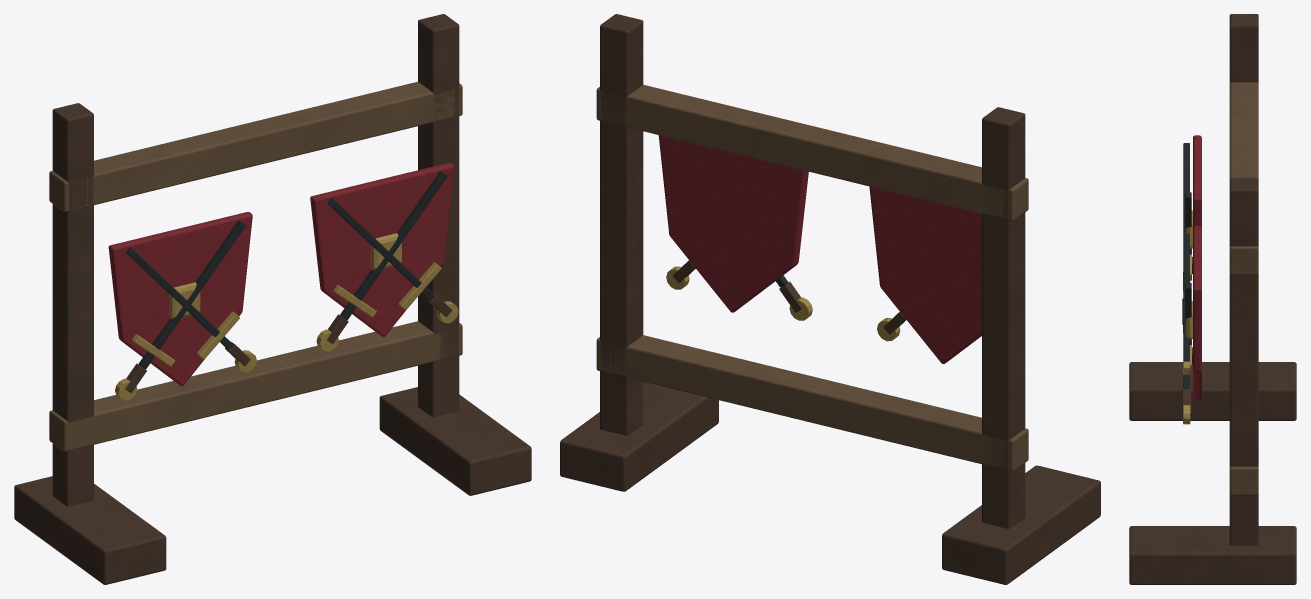
File: Shield_Rack.fbx
3 renders of one model, left to right at view 1: azimuth 30°, elevation 25°; view 2: azimuth 150°, elevation 25°; view 3: azimuth 270°, elevation 25°, orthographic. The views are drawn at different scales.
Parts seen in each view (by area): view 1: Shield_Rack.001; view 2: Shield_Rack.001; view 3: Shield_Rack.001.
Boxes of the visible parts, x1,y1,x2,y2 form: Shield_Rack.001: (14,14,531,584); Shield_Rack.001: (560,14,1100,584); Shield_Rack.001: (1129,14,1296,584).
Bounding box in the file's own units: 2.04 × 1.92 × 0.75.
